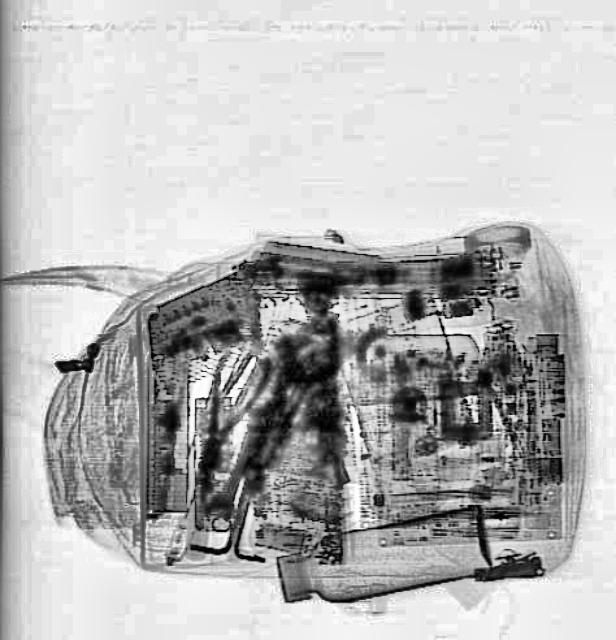Pliers: (178, 346, 270, 499)
